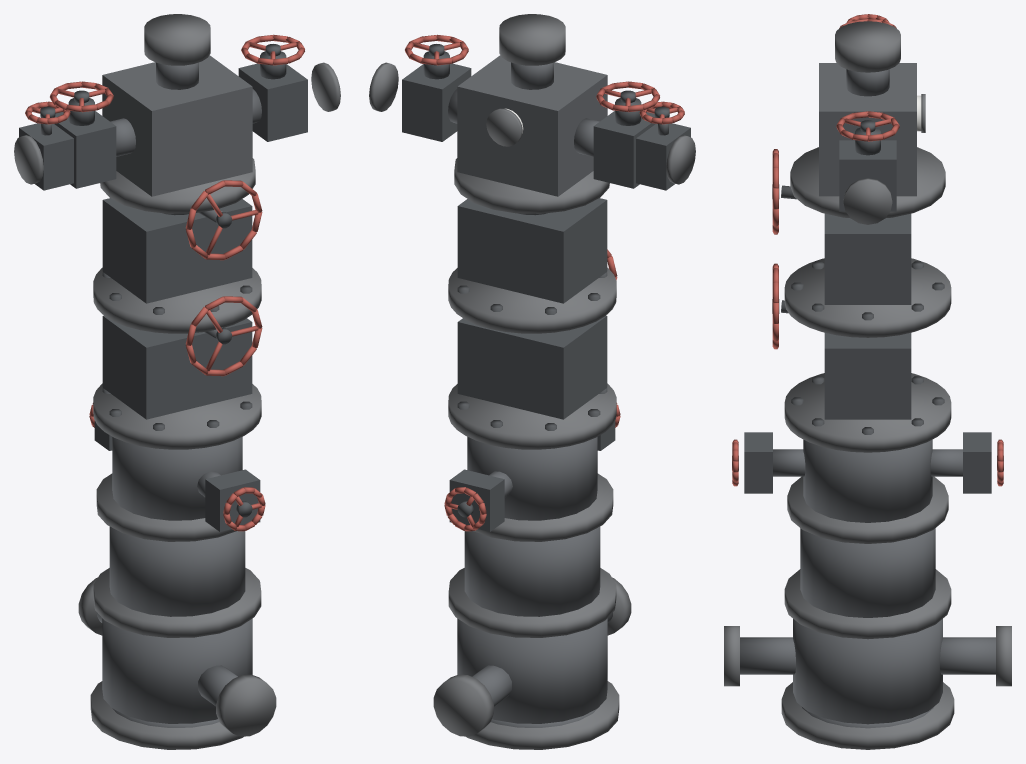
The model's file is christmas_tree_lod1.glb.
The picture shows the model from 3 angles, left to right: view 1: azimuth 30°, elevation 25°; view 2: azimuth 150°, elevation 25°; view 3: azimuth 270°, elevation 25°; orthographic projection.
Visible parts, largest first — view 1: ct_static, ct_wheel; view 2: ct_static, ct_wheel; view 3: ct_static, ct_wheel.
Boxes of the visible parts, x1,y1,x2,y2 form: ct_static: (14, 14, 340, 749); ct_wheel: (25, 34, 304, 531); ct_static: (369, 14, 695, 749); ct_wheel: (405, 34, 684, 531); ct_static: (724, 21, 1011, 749); ct_wheel: (732, 14, 1003, 486).
Bounding box in the file's own units: 1.2 × 2.6 × 1.
